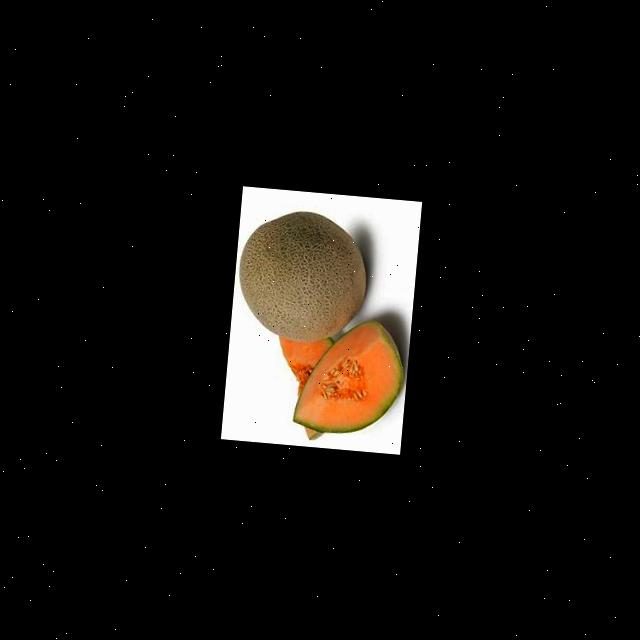Hami Melon: (232, 205, 372, 345), (290, 314, 408, 438)
